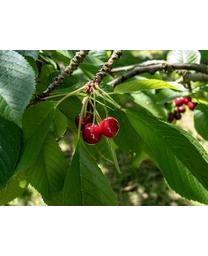cherry: (81, 122, 101, 144), (99, 117, 119, 138), (74, 112, 94, 129)
